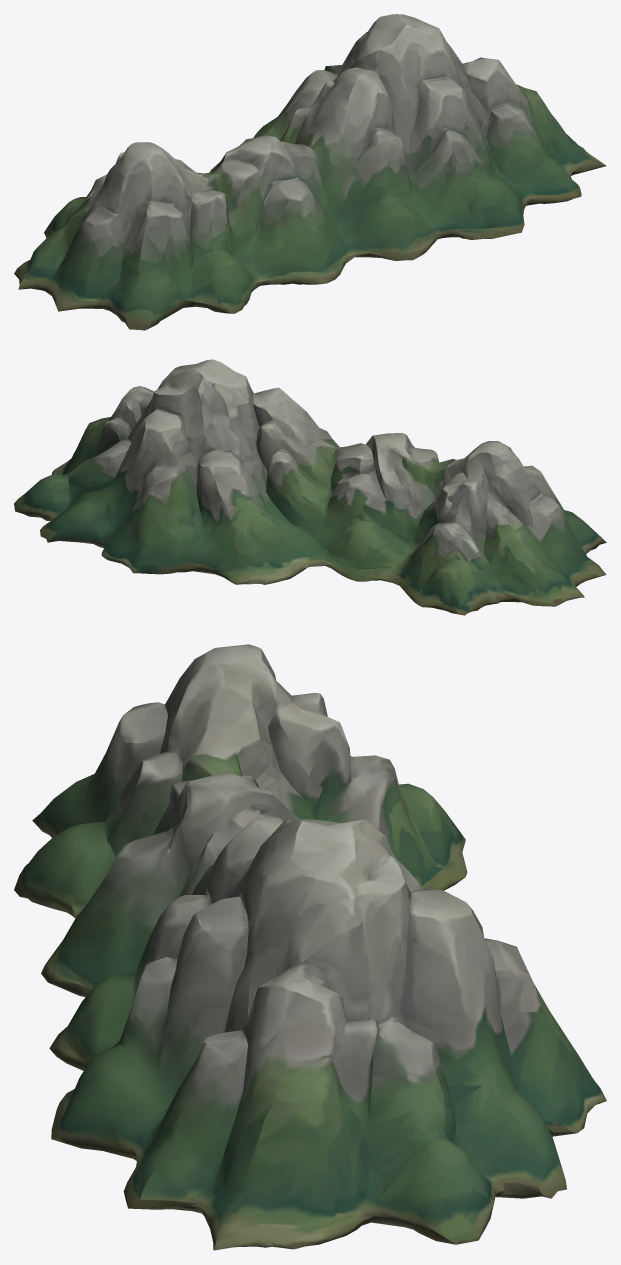
The picture shows the model from 3 angles, top to bottom: view 1: azimuth 30°, elevation 25°; view 2: azimuth 150°, elevation 25°; view 3: azimuth 270°, elevation 25°; orthographic projection. The views are drawn at different scales.
Visible parts, largest first — view 1: backdrop_mountains; view 2: backdrop_mountains; view 3: backdrop_mountains.
Part boxes in pixels (<box>): backdrop_mountains: <box>14,14,606,330</box>; backdrop_mountains: <box>14,359,606,615</box>; backdrop_mountains: <box>14,644,606,1250</box>.
Size of the model in its own units: 0.9818 by 0.2746 by 0.5151.
Materials: 1 (1 with a texture image).
